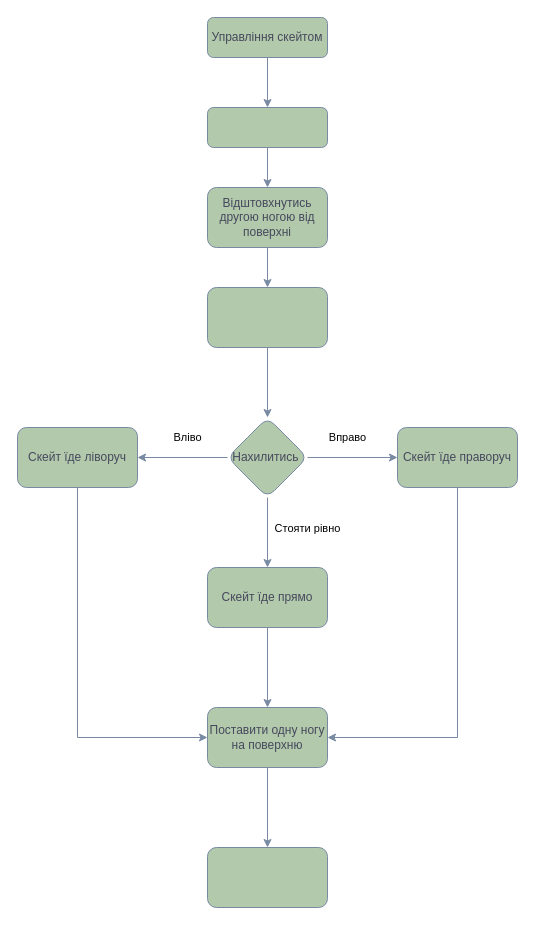
Image size: 535x925. Some labels were removed from this diagram. Here are the shapes that lost their labels. From the top down, the centre of each, then its label:
the point at 267,127: Стати на скейт однією ногою
the point at 267,317: Стояти на скейті двома ногами
the point at 267,877: Скейт зупинився
